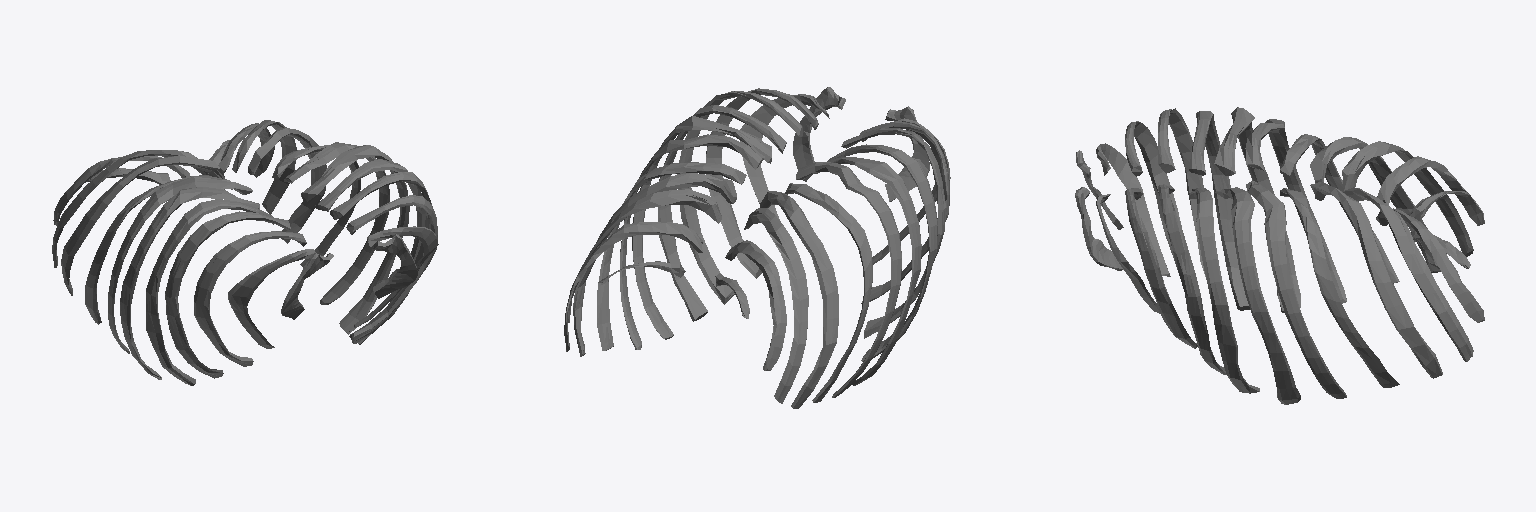
File: Female_Skeletal_Ribs.obj
3 views of the same model, side by side, from view 1: azimuth 30°, elevation 25°; view 2: azimuth 150°, elevation 25°; view 3: azimuth 270°, elevation 25° (orthographic).
Visible parts, largest first — view 1: Female_Skeletal_Ribs; view 2: Female_Skeletal_Ribs; view 3: Female_Skeletal_Ribs.
Part boxes in pixels (bbox=[...]): Female_Skeletal_Ribs: bbox=[52, 120, 438, 385]; Female_Skeletal_Ribs: bbox=[564, 87, 950, 408]; Female_Skeletal_Ribs: bbox=[1075, 107, 1484, 404].
Size of the model in its own units: 2.76 by 1.95 by 3.52.